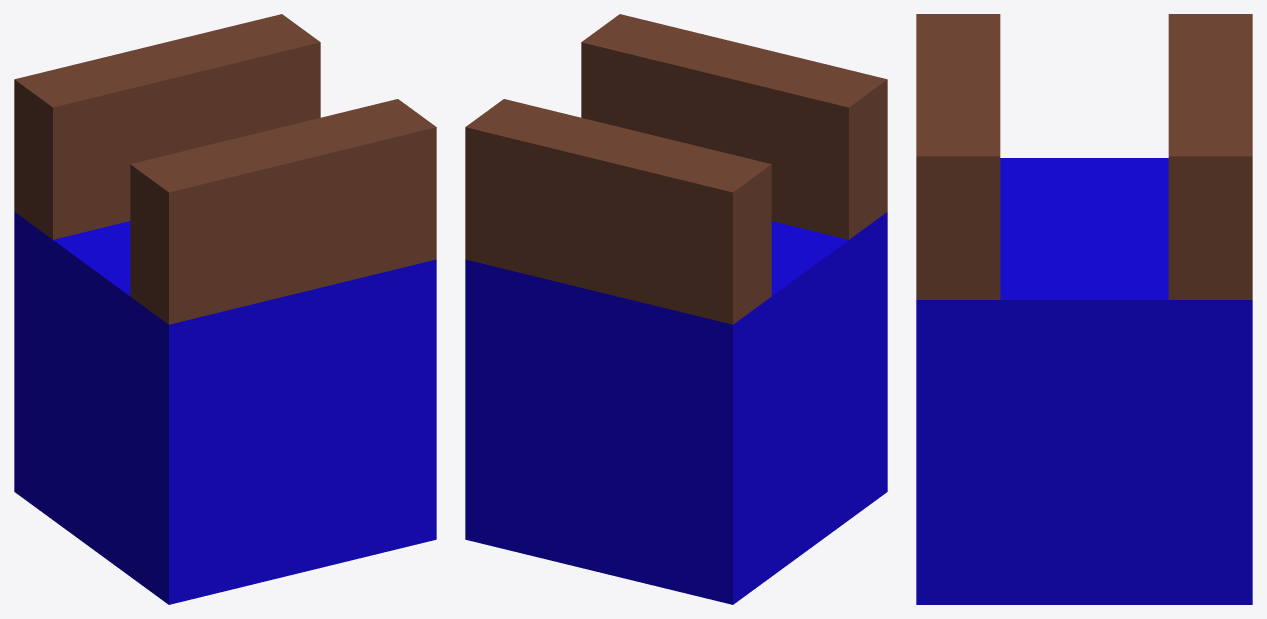
The model's file is DoubleEdge.fbx.
3 views of the same model, side by side, from view 1: azimuth 30°, elevation 25°; view 2: azimuth 150°, elevation 25°; view 3: azimuth 270°, elevation 25° (orthographic). The views are drawn at different scales.
Visible parts, largest first — view 1: Cube.011; view 2: Cube.011; view 3: Cube.011.
Part boxes in pixels (<box>): Cube.011: <box>14,14,436,604</box>; Cube.011: <box>465,14,887,604</box>; Cube.011: <box>916,14,1252,604</box>.
Size of the model in its own units: 200 by 294 by 200.
